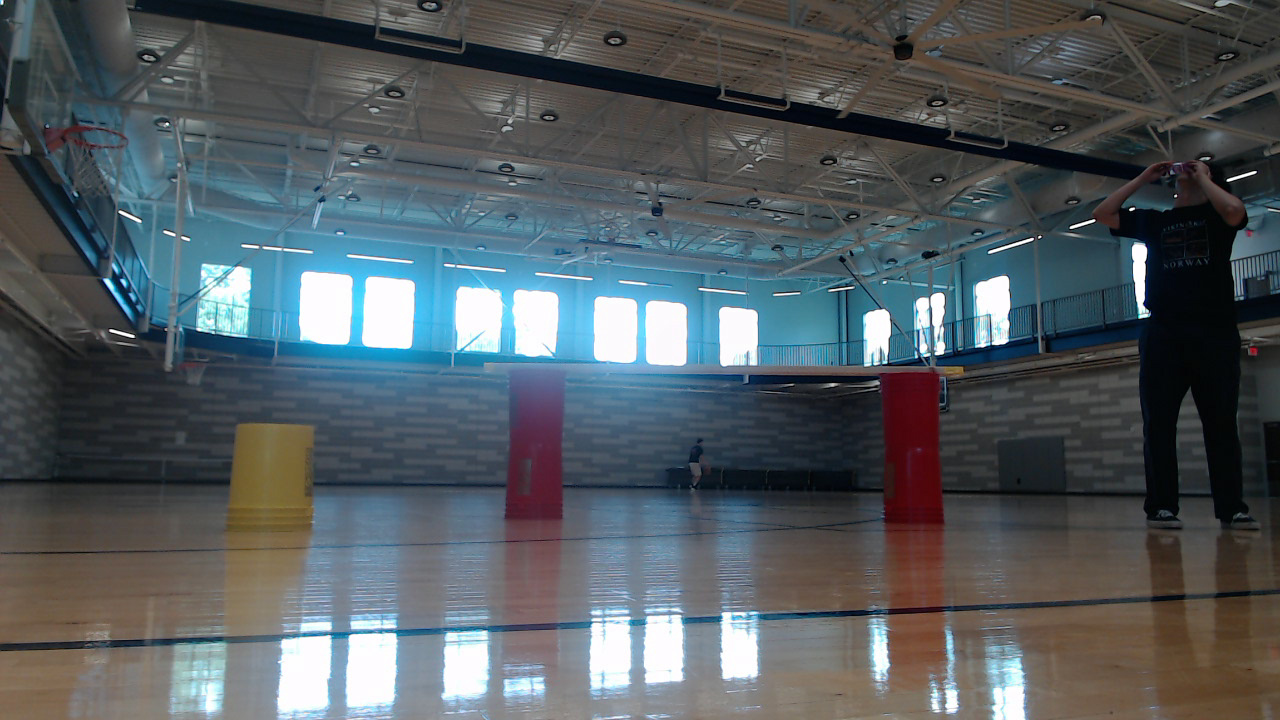red_bucket_arch: (504, 363, 953, 537)
yellow_bucket: (224, 422, 326, 543)
